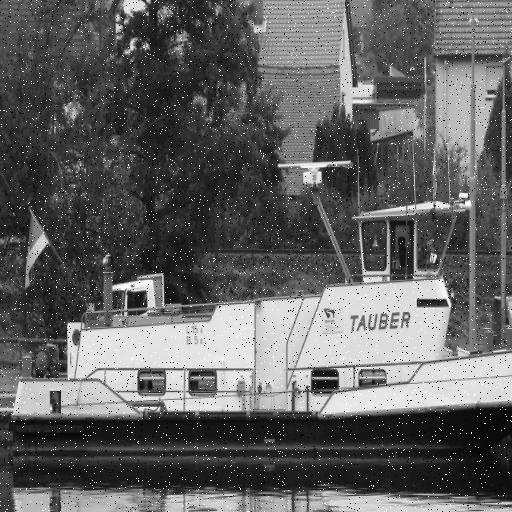tugboat: (4, 158, 512, 478)
